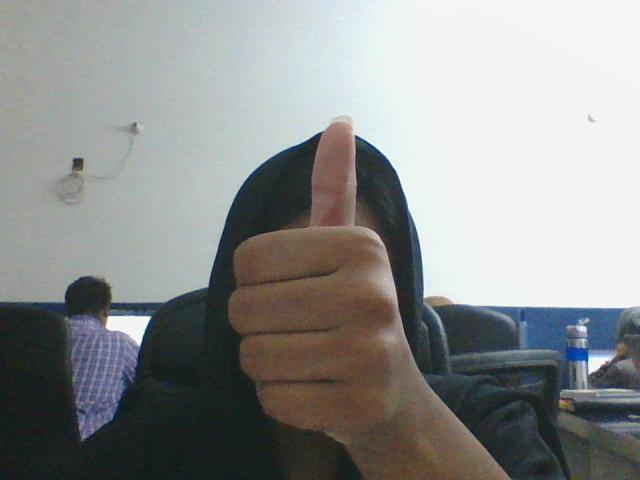thumbs-up: (223, 116, 395, 439)
